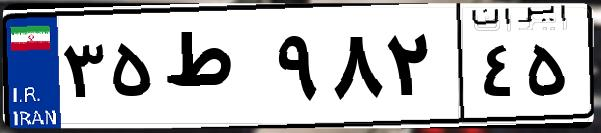2: (385, 28, 445, 110)
3: (57, 26, 110, 100)
4: (475, 38, 525, 113)
5: (525, 38, 570, 115), (110, 28, 158, 98)
8: (330, 28, 385, 110)
9: (270, 28, 330, 110)
ط: (158, 20, 270, 120)
